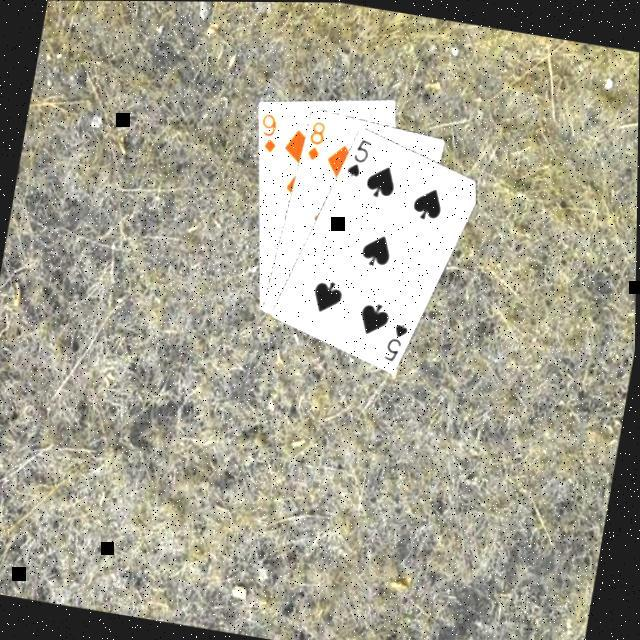5S: (380, 318, 414, 368), (343, 134, 376, 181)
8D: (304, 117, 332, 166)
9D: (254, 110, 286, 157)
